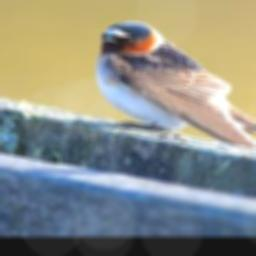Swallow: (93, 21, 256, 155)
